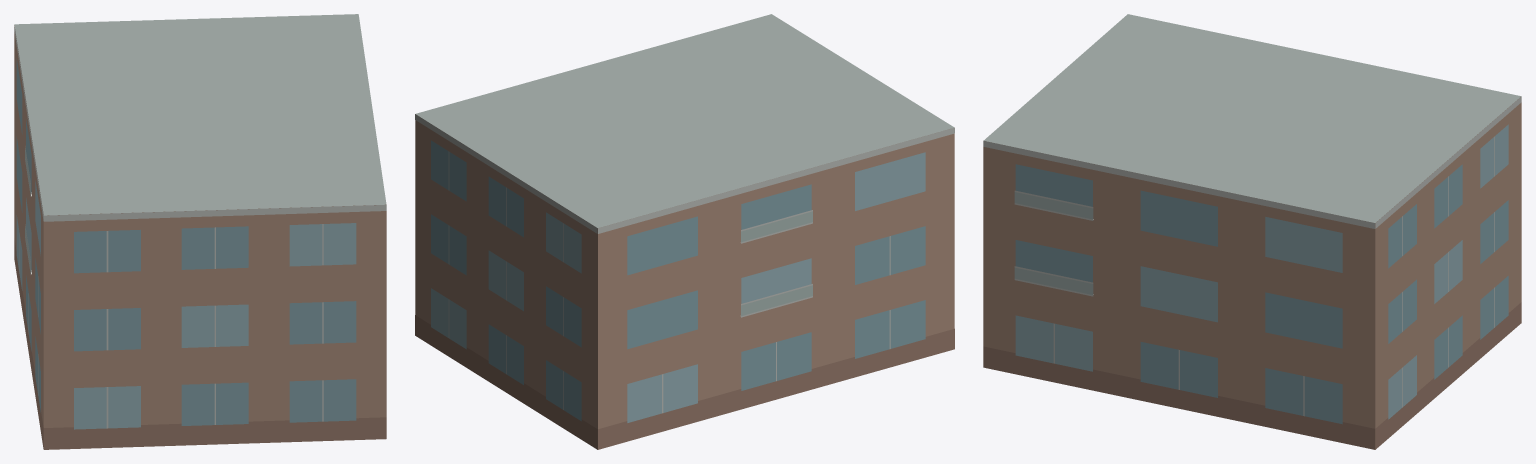
The model's file is survey-upis-32987258.glb.
3 renders of one model, left to right at view 1: azimuth 30°, elevation 25°; view 2: azimuth 150°, elevation 25°; view 3: azimuth 270°, elevation 25°, orthographic. The views are drawn at different scales.
Parts seen in each view (by area): view 1: survey-upis-32987258.tmp; view 2: survey-upis-32987258.tmp; view 3: survey-upis-32987258.tmp.
Part boxes in pixels (x1,y1,x2,y2): survey-upis-32987258.tmp: [14, 14, 386, 449]; survey-upis-32987258.tmp: [415, 14, 954, 449]; survey-upis-32987258.tmp: [983, 14, 1521, 449].
Size of the model in its own units: 18.1 by 9.15 by 19.68.
